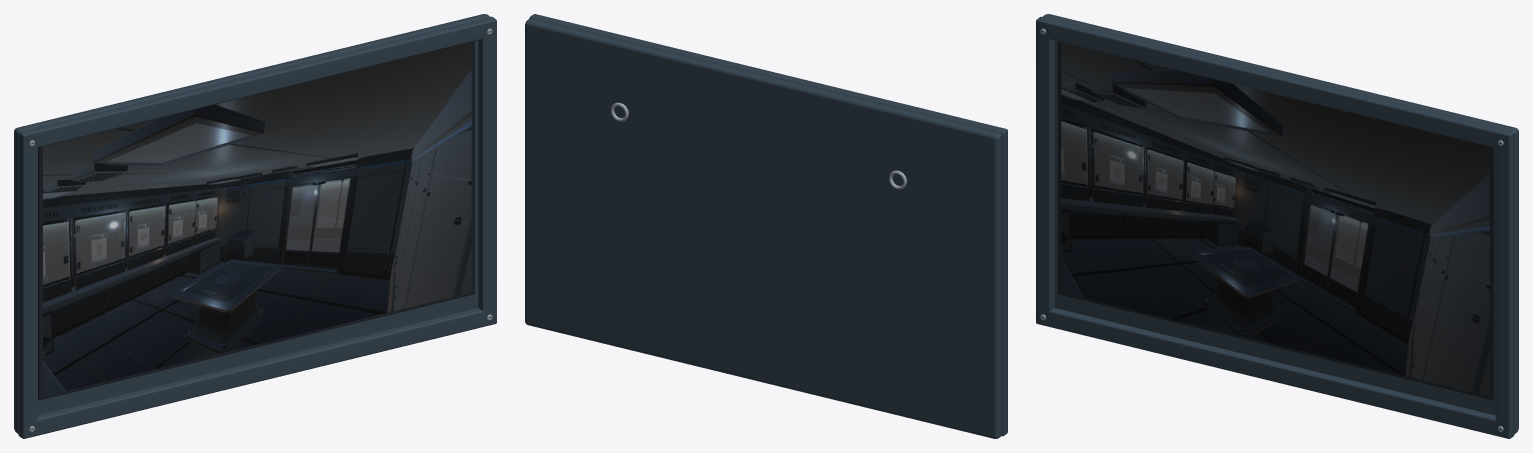
Rendered from CAM_01_WallReference.fbx.
The picture shows the model from 3 angles, left to right: view 1: azimuth 30°, elevation 25°; view 2: azimuth 150°, elevation 25°; view 3: azimuth 330°, elevation 25°; orthographic projection.
Visible parts, largest first — view 1: CAM_01_WallReference.001; view 2: CAM_01_WallReference.001; view 3: CAM_01_WallReference.001.
Part boxes in pixels (left/top/right/bottom): CAM_01_WallReference.001: left=14, top=14, right=496, bottom=438; CAM_01_WallReference.001: left=525, top=14, right=1007, bottom=438; CAM_01_WallReference.001: left=1036, top=14, right=1518, bottom=438.
Size of the model in its own units: 92.1 by 56.5 by 4.9.
